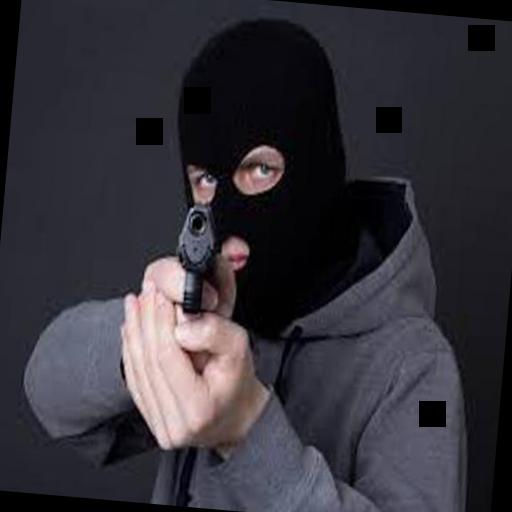Handgun: (170, 197, 214, 319)
